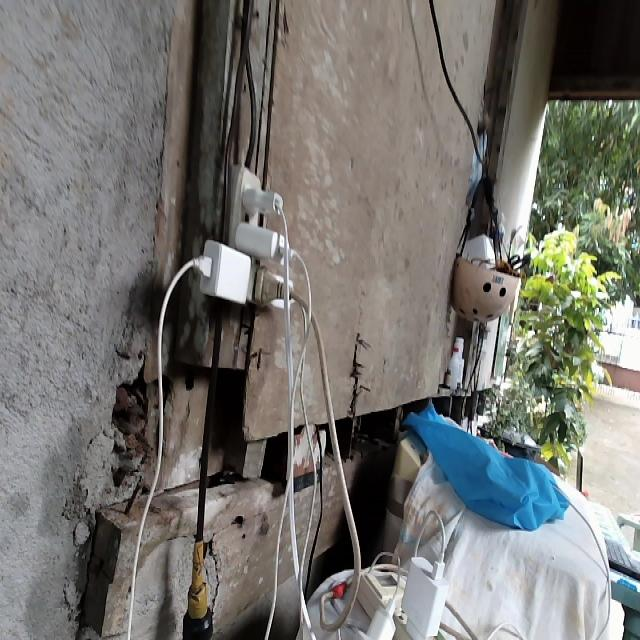-: (192, 165, 312, 318)
